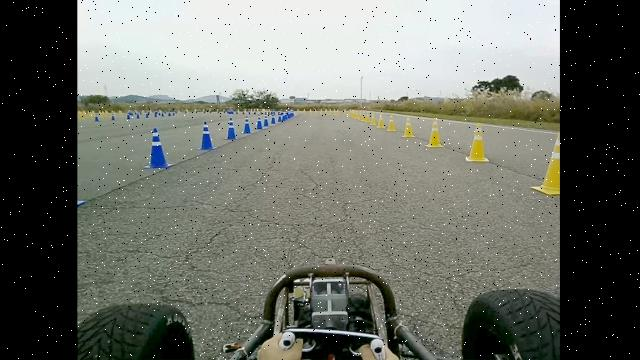blue cone: (143, 128, 173, 171), (193, 118, 220, 154), (224, 115, 238, 141)
yellow cone: (530, 133, 560, 195), (465, 122, 489, 162), (424, 117, 444, 148), (401, 116, 416, 138), (386, 114, 396, 132), (376, 113, 385, 128), (369, 112, 377, 126)
